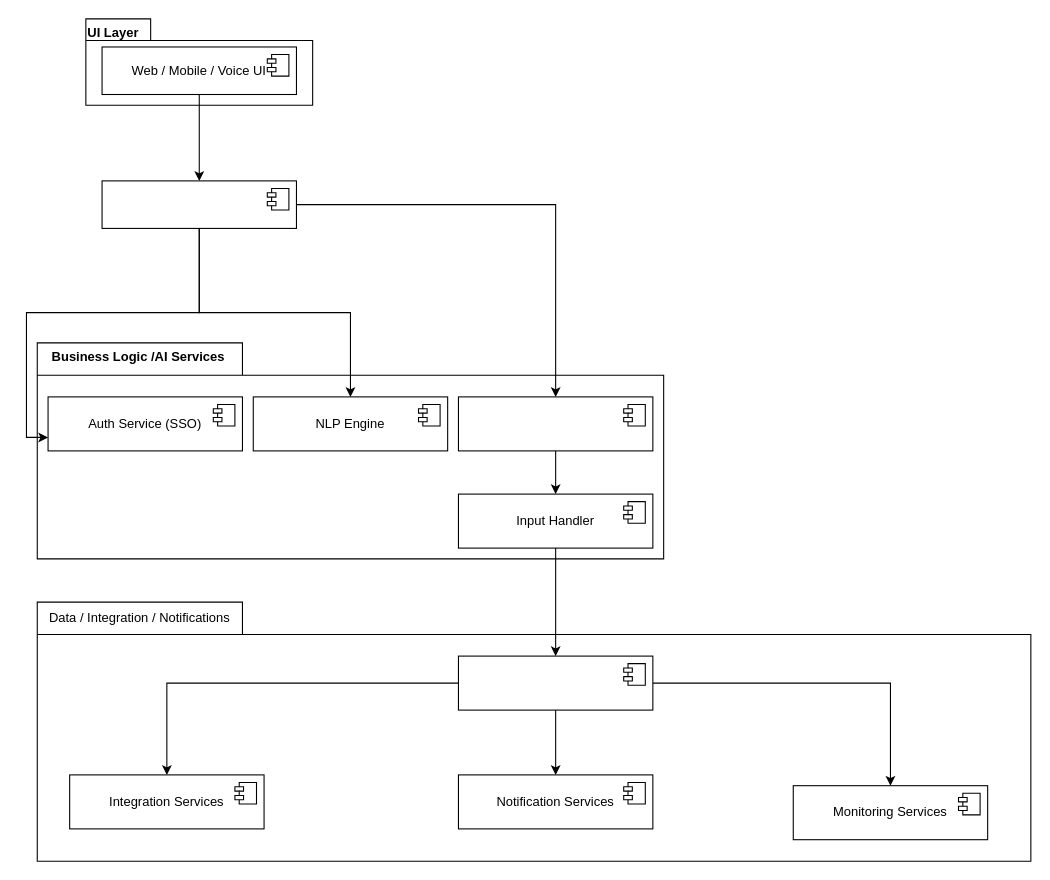
The diagram is 1050 pixels wide and 880 high, and some of its shapes have lost their labels. The centre of each missing label's shape, as x and y in pixels:
"API Gateway" goes at (x=198, y=204).
"Database / Cache" goes at (x=555, y=682).
"Session Manager" goes at (x=555, y=423).
